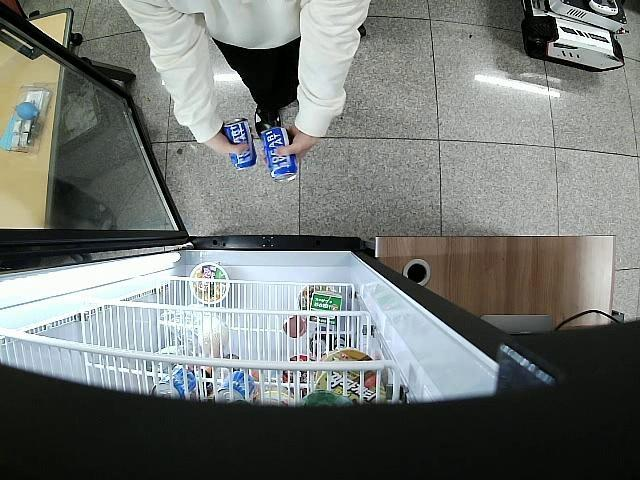13_pocariSweat: (262, 127, 299, 182), (222, 118, 256, 171)
